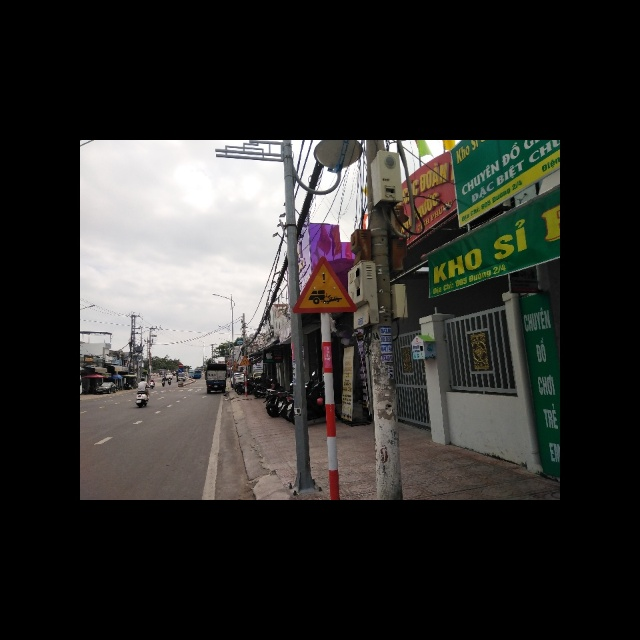Đoạn đường hay xảy ra tai nạn: (291, 256, 355, 314)
Đường đôi: (238, 354, 251, 366)
